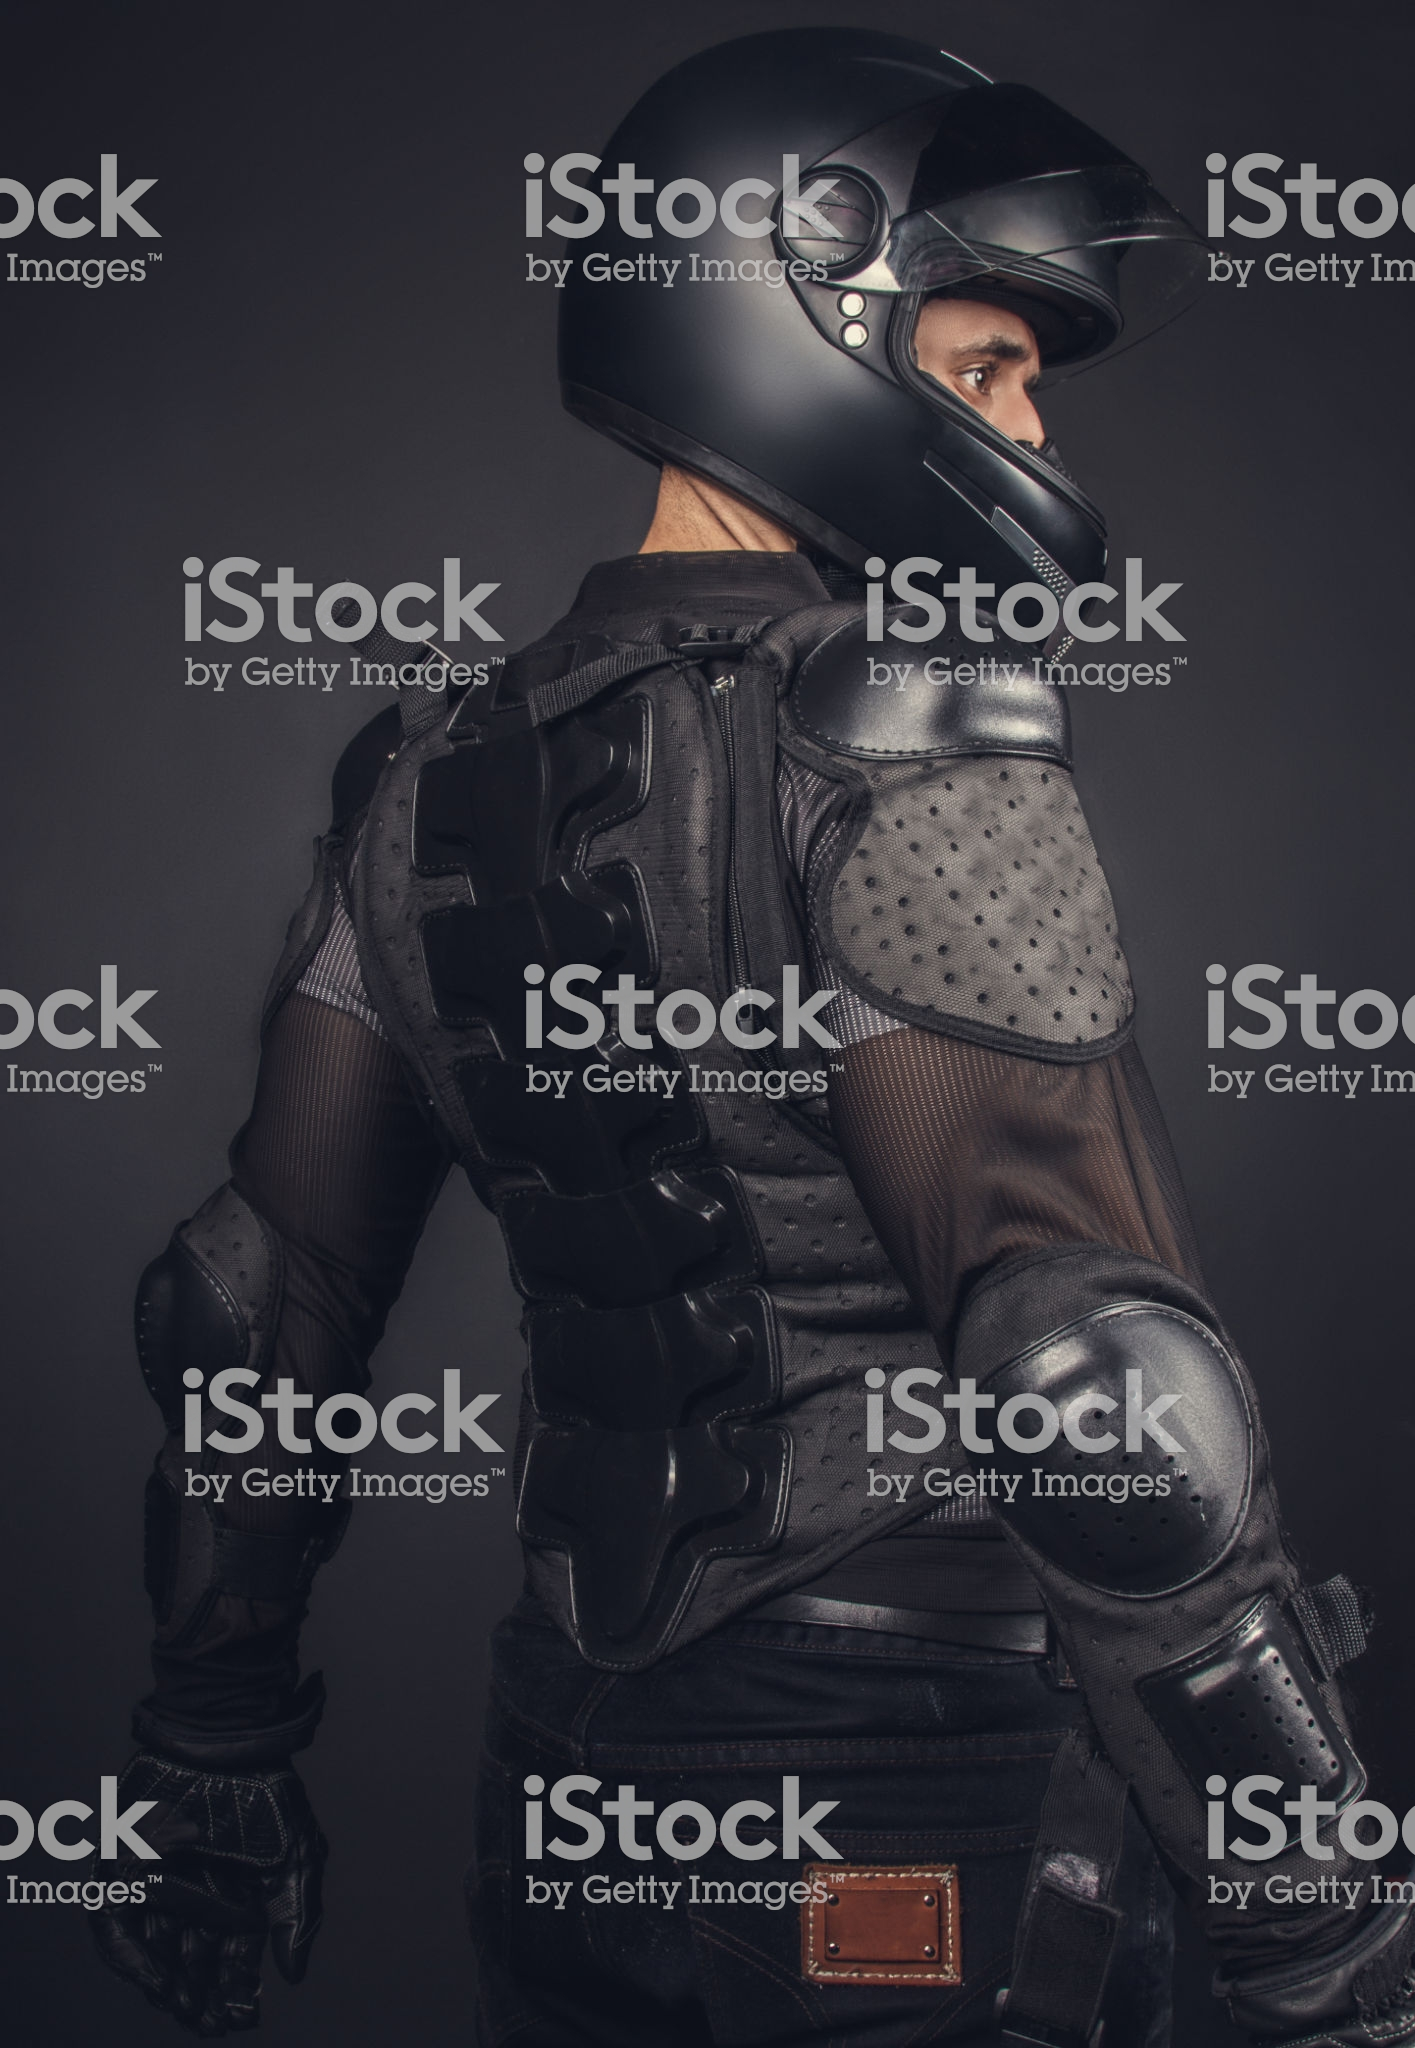helmet: (592, 25, 1175, 577)
